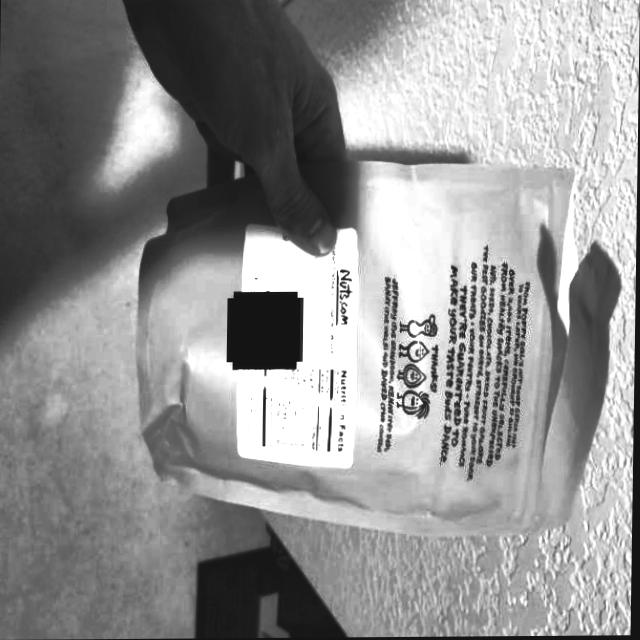qr_code: (230, 295, 301, 367)
